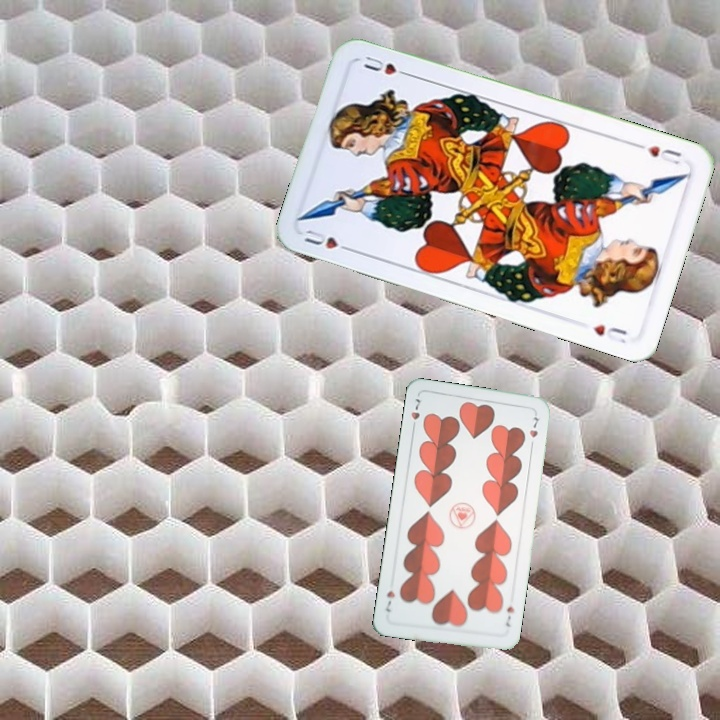H7: (407, 394, 423, 433), (502, 602, 517, 629)
HU: (300, 225, 356, 255), (632, 139, 684, 168)
